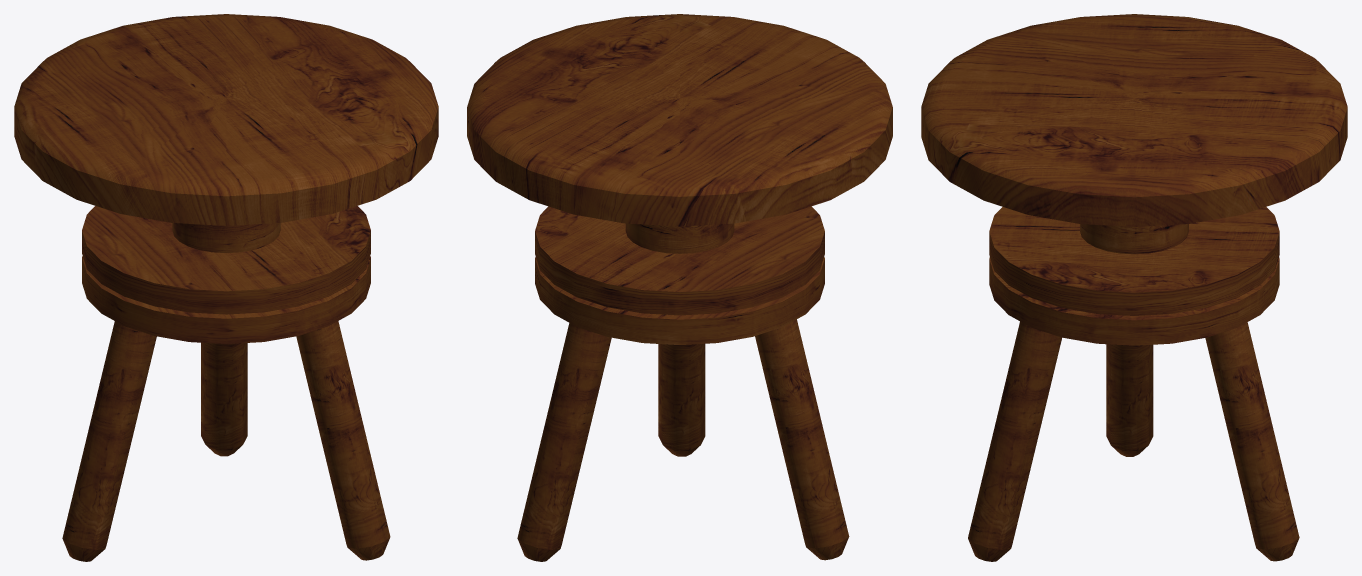
Rendered from furniture16.fbx.
3 views of the same model, side by side, from view 1: azimuth 30°, elevation 25°; view 2: azimuth 150°, elevation 25°; view 3: azimuth 270°, elevation 25° (orthographic).
Visible parts, largest first — view 1: Mesh; view 2: Mesh; view 3: Mesh.
Part boxes in pixels (x1,y1,x2,y2): Mesh: (14, 14, 438, 561); Mesh: (467, 14, 892, 561); Mesh: (921, 14, 1347, 561).
Size of the model in its own units: 121 by 134 by 121.
